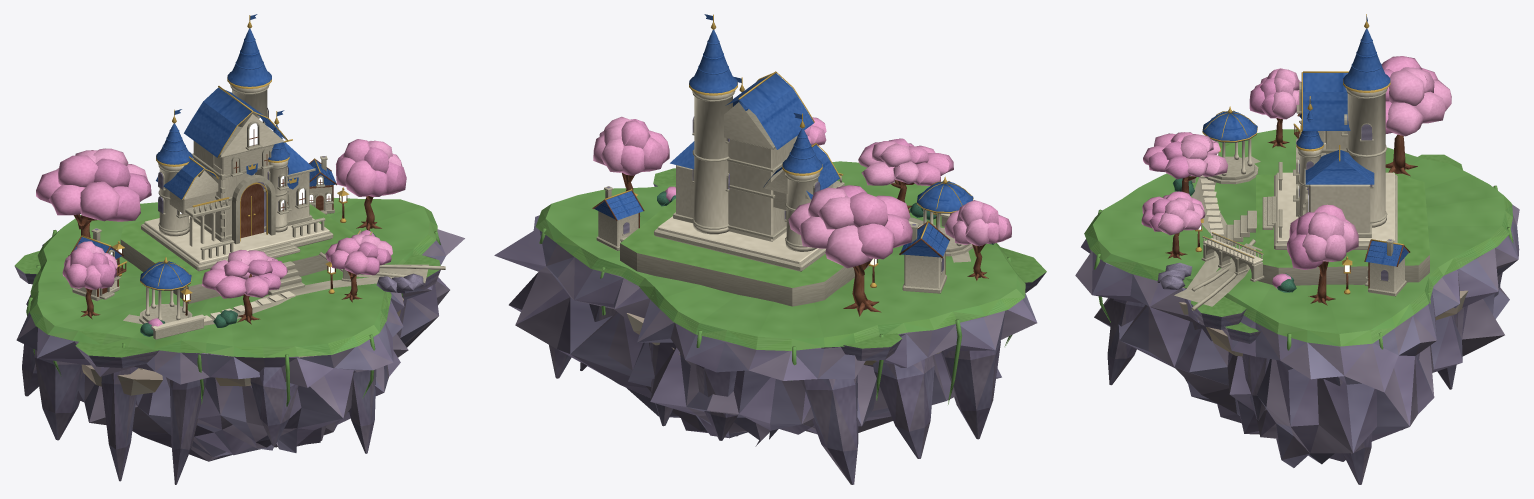
File: royal-island-right-v2.glb
3 views of the same model, side by side, from view 1: azimuth 30°, elevation 25°; view 2: azimuth 150°, elevation 25°; view 3: azimuth 270°, elevation 25° (orthographic). The views are drawn at different scales.
Parts seen in each view (by area): view 1: royal-island-right-v2; view 2: royal-island-right-v2; view 3: royal-island-right-v2.
Boxes of the visible parts, x1,y1,x2,y2 form: royal-island-right-v2: [14, 14, 464, 484]; royal-island-right-v2: [494, 14, 1046, 484]; royal-island-right-v2: [1075, 14, 1519, 484].
Size of the model in its own units: 19.32 by 16.87 by 15.56.
Materials: 10 (10 with a texture image).
